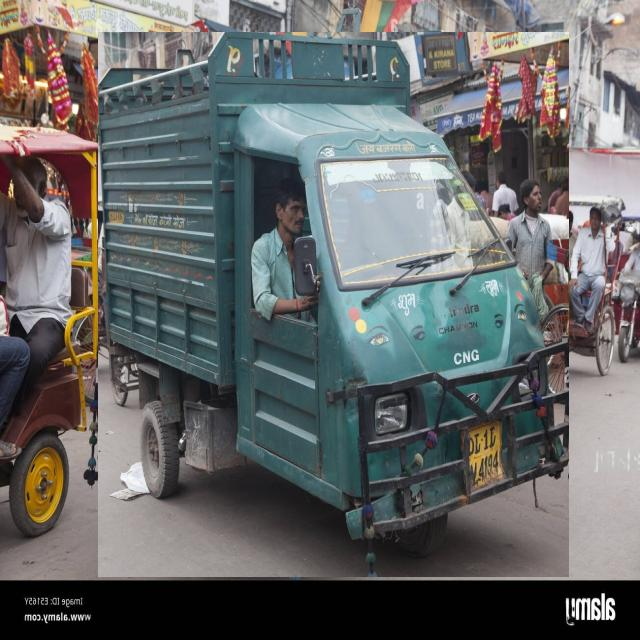truck: (98, 32, 569, 577)
